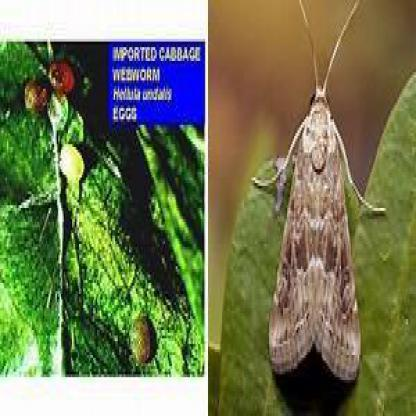Hellula undalis: (251, 1, 399, 394)
